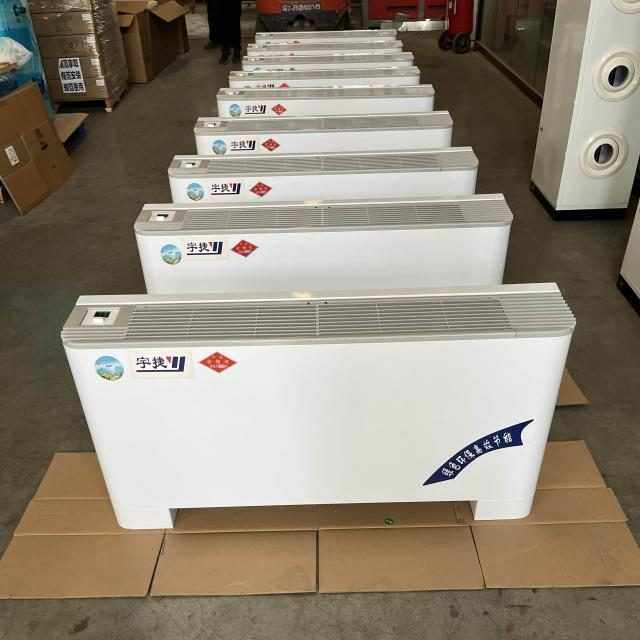appliances: (62, 283, 575, 529), (135, 194, 512, 293), (532, 0, 640, 219), (168, 147, 477, 203), (194, 111, 452, 157), (216, 85, 434, 119), (229, 67, 420, 88), (243, 52, 414, 71), (247, 40, 403, 57), (618, 206, 640, 311), (255, 29, 397, 44), (246, 256, 252, 261), (320, 265, 321, 266)
electronics: (256, 0, 351, 33), (361, 0, 446, 30), (449, 2, 461, 12), (366, 25, 368, 28), (374, 30, 375, 32), (372, 32, 373, 33)
